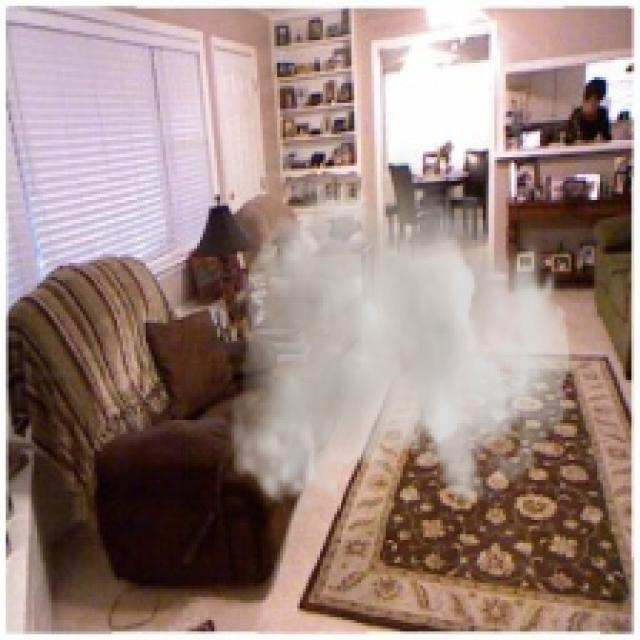smoke: (228, 140, 572, 514)
